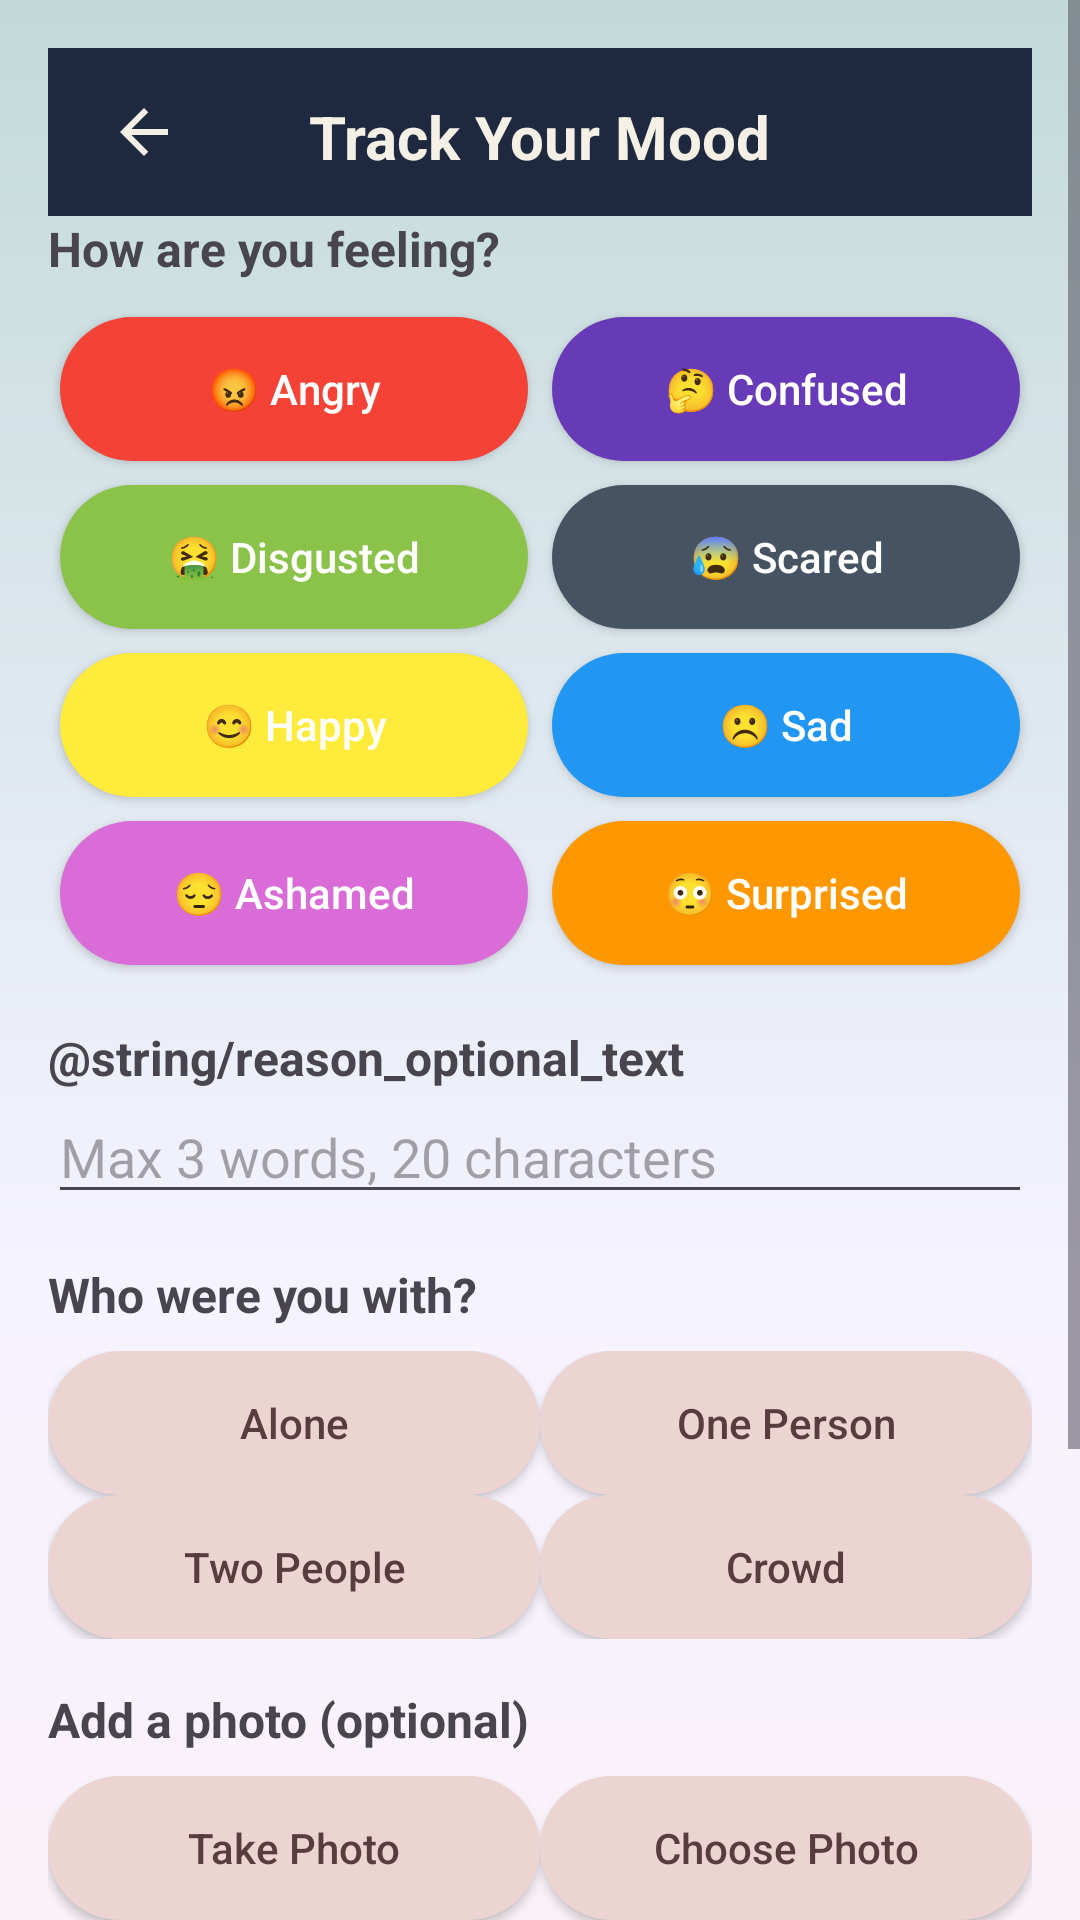

Icon bounding boxes for this 1080 × 1920 phone screenshot, format bbox=(x1, y1, x2, y2):
arrow back: bbox=(120, 108, 168, 156)
